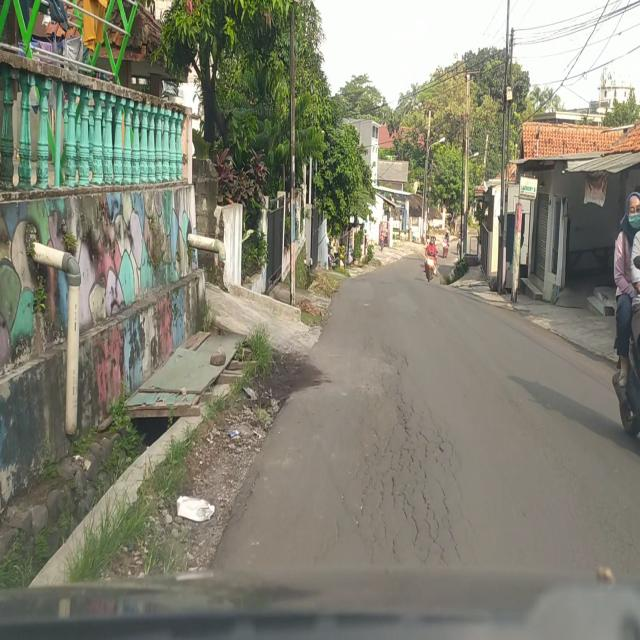Drain Hole: (326, 352, 462, 574)
